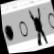correct: (2, 20, 16, 44)
no answer: (16, 17, 31, 41), (45, 8, 54, 32)
not correct: (27, 5, 49, 47)
